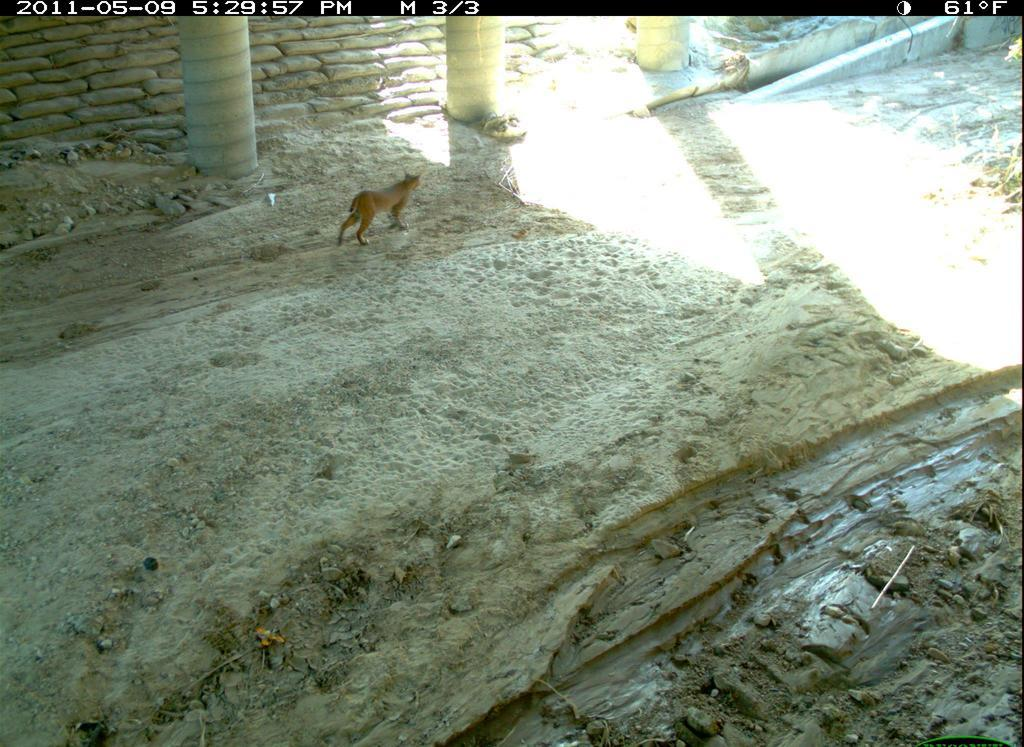bobcat: (327, 164, 441, 259)
